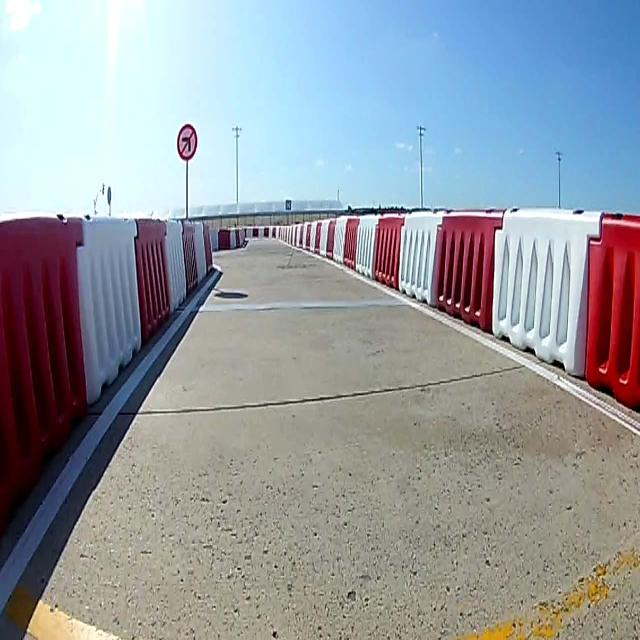soladonulmez: (177, 123, 196, 160)
